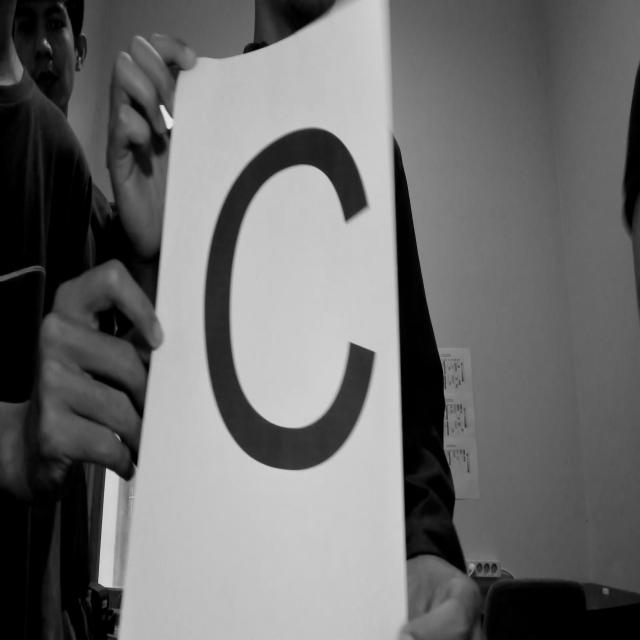c: (198, 119, 381, 499)
